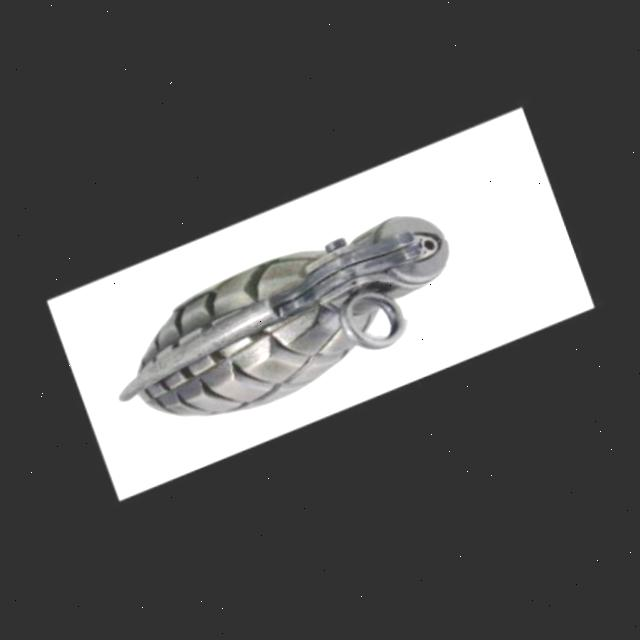grenade: (95, 178, 504, 461)
